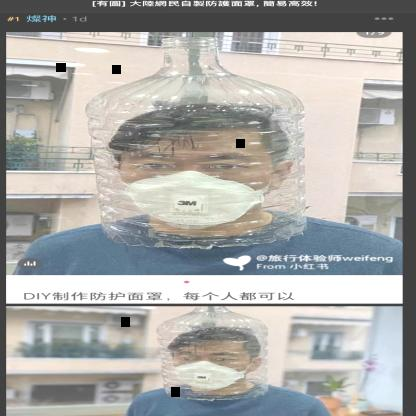mask: (94, 104, 319, 235), (132, 309, 294, 393)
